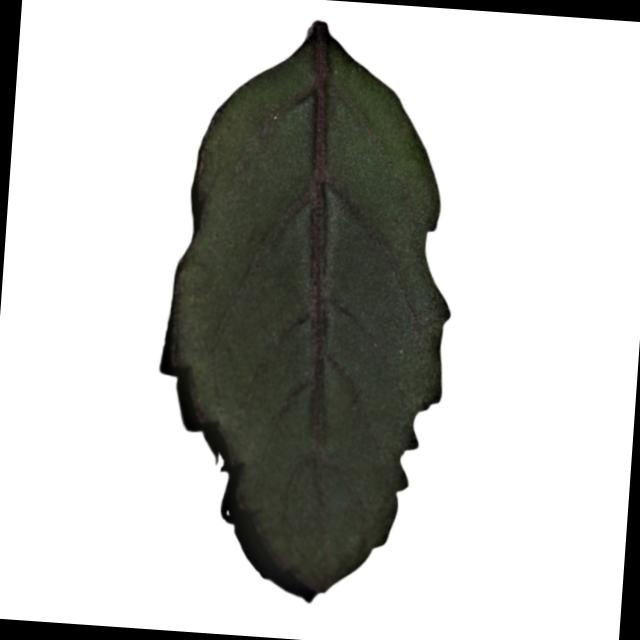tulsi: (142, 11, 473, 616)
